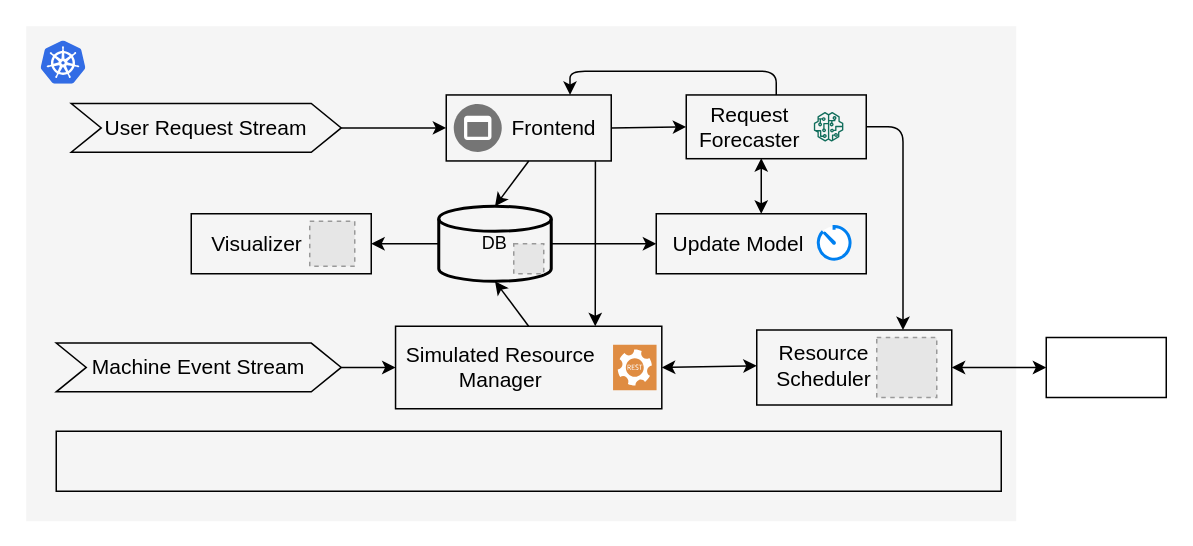
Some shapes in this 1193 by 546 pixel diagram are drawn without their labels. Grey dashed boxes stand in for pictures. The shapes that lost their labels are listed below. From the top down, each one's centre as x and y in pixels, then its label:
the point at 1105,367: Condor
the point at 528,460: RabbitMQ
